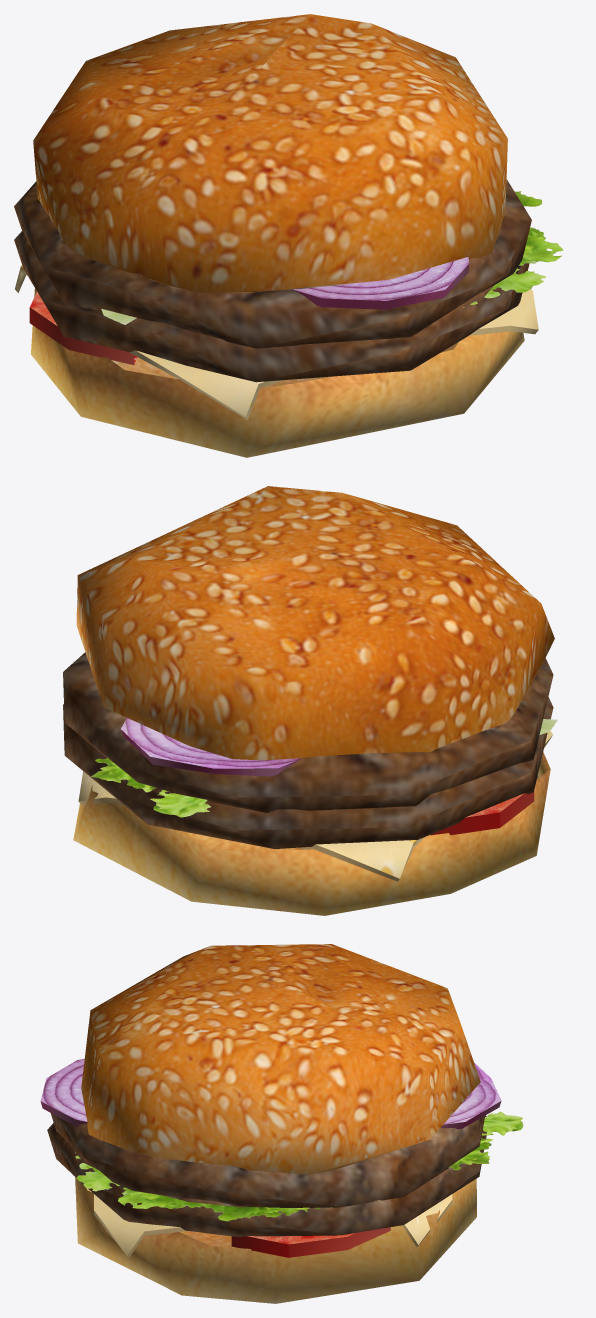
Rendered from burger_mega.fbx.
3 views of the same model, one above another, from view 1: azimuth 30°, elevation 25°; view 2: azimuth 150°, elevation 25°; view 3: azimuth 270°, elevation 25° (orthographic). The views are drawn at different scales.
Visible parts, largest first — view 1: burger_bun_01_LOD00, burger_bun_04_LOD00, chopped_steak__LOD00.001, chopped_steak__LOD00, onion_LOD00.001, cheese_LOD00, salad_LOD00, tomatoe_LOD00.001; view 2: burger_bun_01_LOD00, burger_bun_04_LOD00, chopped_steak__LOD00.001, chopped_steak__LOD00, onion_LOD00, cheese_LOD00, salad_LOD00, tomatoe_LOD00.001; view 3: burger_bun_01_LOD00, burger_bun_04_LOD00, chopped_steak__LOD00.001, chopped_steak__LOD00, salad_LOD00, cheese_LOD00, tomatoe_LOD00, onion_LOD00.001, onion_LOD00.
Boxes of the visible parts, box(x1,y1,x2,y2) form: burger_bun_01_LOD00: box(33, 14, 507, 292); burger_bun_04_LOD00: box(31, 288, 524, 457); chopped_steak__LOD00.001: box(14, 179, 531, 348); chopped_steak__LOD00: box(14, 231, 529, 382); onion_LOD00.001: box(292, 257, 469, 309); cheese_LOD00: box(15, 265, 538, 420); salad_LOD00: box(101, 191, 563, 324); tomatoe_LOD00.001: box(29, 291, 137, 365); burger_bun_01_LOD00: box(76, 486, 554, 760); burger_bun_04_LOD00: box(73, 752, 550, 915); chopped_steak__LOD00.001: box(63, 652, 553, 812); chopped_steak__LOD00: box(63, 697, 553, 848); onion_LOD00: box(121, 718, 300, 776); cheese_LOD00: box(78, 730, 552, 881); salad_LOD00: box(91, 719, 557, 817); tomatoe_LOD00.001: box(431, 790, 534, 835); burger_bun_01_LOD00: box(81, 944, 480, 1174); burger_bun_04_LOD00: box(75, 1177, 476, 1303); chopped_steak__LOD00.001: box(50, 1113, 484, 1207); chopped_steak__LOD00: box(47, 1115, 486, 1236); salad_LOD00: box(75, 1111, 523, 1221); cheese_LOD00: box(94, 1194, 452, 1257); tomatoe_LOD00: box(231, 1227, 390, 1257); onion_LOD00.001: box(40, 1058, 87, 1126); onion_LOD00: box(441, 1062, 501, 1129).
Bounding box in the file's own units: 15.98 × 8.51 × 18.89.
